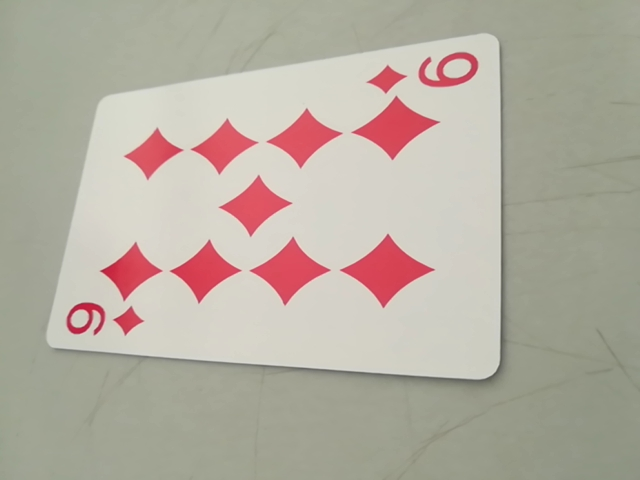fk 9: (366, 46, 485, 102), (57, 293, 150, 350)
